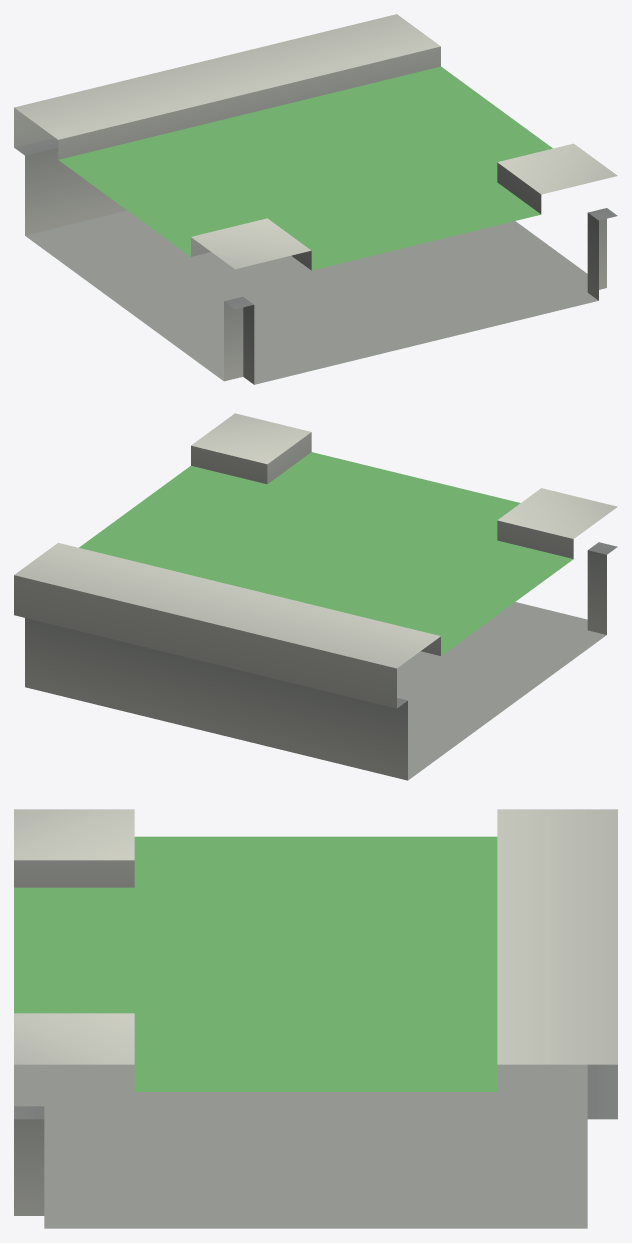
Rendered from Planter_3way_Medium_01.fbx.
The picture shows the model from 3 angles, top to bottom: view 1: azimuth 30°, elevation 25°; view 2: azimuth 150°, elevation 25°; view 3: azimuth 270°, elevation 25°; orthographic projection. The views are drawn at different scales.
Visible parts, largest first — view 1: Planter_3way_Medium_01; view 2: Planter_3way_Medium_01; view 3: Planter_3way_Medium_01.
Boxes of the visible parts, x1,y1,x2,y2 form: Planter_3way_Medium_01: (14,14,617,384); Planter_3way_Medium_01: (14,413,617,780); Planter_3way_Medium_01: (14,809,617,1228).
Bounding box in the file's own units: 200 × 60 × 200.
